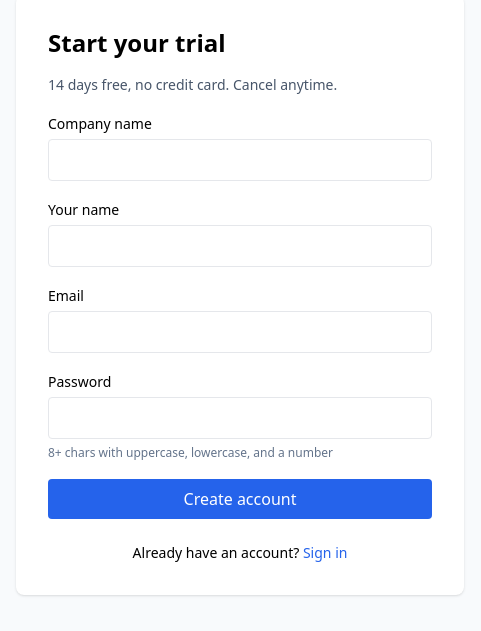
SignupPage › surfaces backend errors to the user
The width and height of the screenshot is (481, 631).
Type "Acme" into the field labelled "Company name" at [240, 160], box [48,139,432,181]
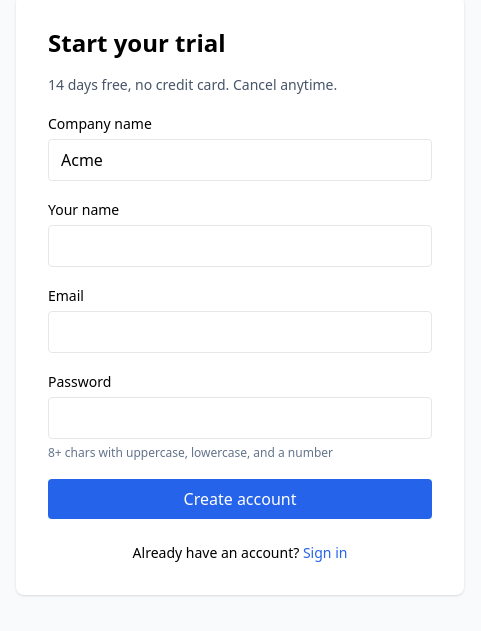
Type "dup@acme.test" into the field labelled "Email" at [240, 332], box [48,311,432,353]
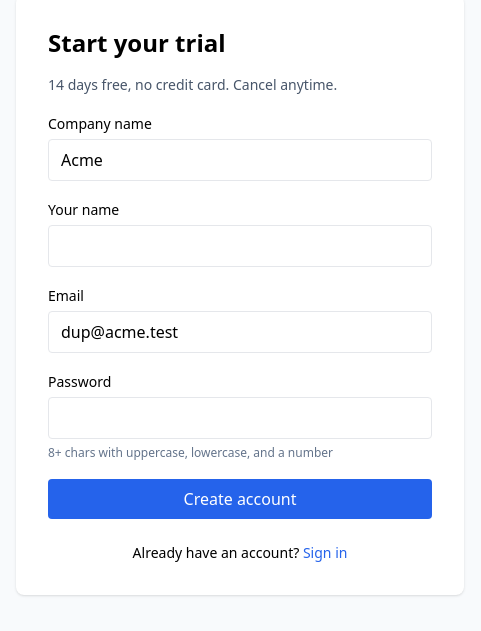
Type "Whatever1" into the password field labelled "Password 8+ chars with uppercase, lowercase, and a number" at [240, 418], box [48,397,432,439]
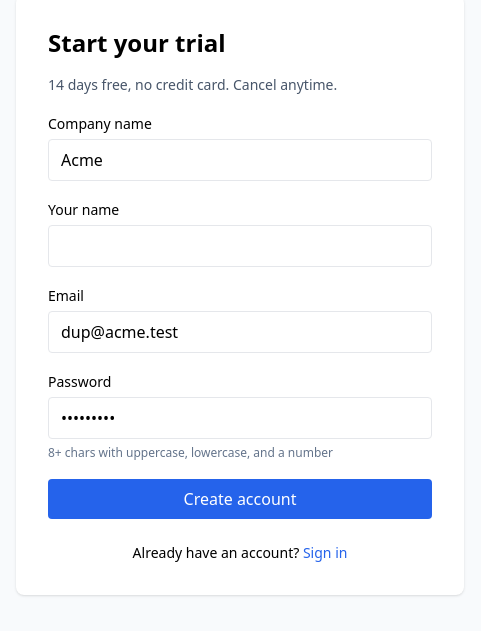
Click the button "Create account" at [240, 499], box [48,479,432,519]
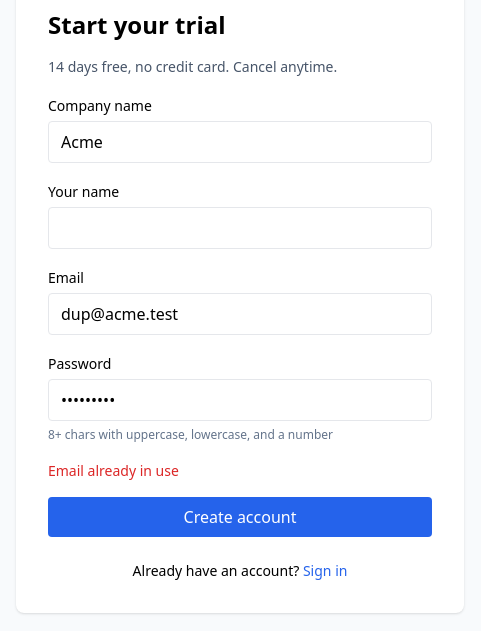
Result: the text "Email already in use" is shown at [48,461,179,480]
